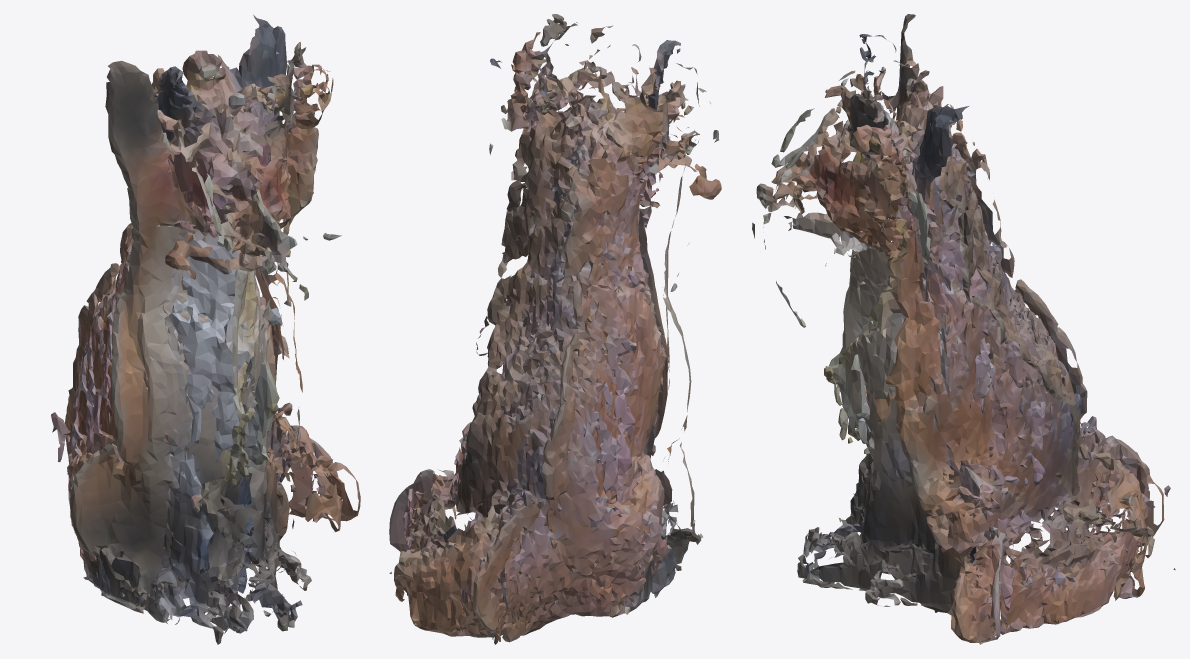
The model's file is finished_model_20260507_170611.glb.
3 views of the same model, side by side, from view 1: azimuth 30°, elevation 25°; view 2: azimuth 150°, elevation 25°; view 3: azimuth 270°, elevation 25° (orthographic). The views are drawn at different scales.
Visible parts, largest first — view 1: finished_model_20260507_170611.ply; view 2: finished_model_20260507_170611.ply; view 3: finished_model_20260507_170611.ply.
Boxes of the visible parts, box(x1,y1,x2,y2) form: finished_model_20260507_170611.ply: box(51, 14, 360, 644); finished_model_20260507_170611.ply: box(389, 14, 721, 644); finished_model_20260507_170611.ply: box(752, 14, 1175, 644).
Bounding box in the file's own units: 0.0597 × 0.1103 × 0.0793.
